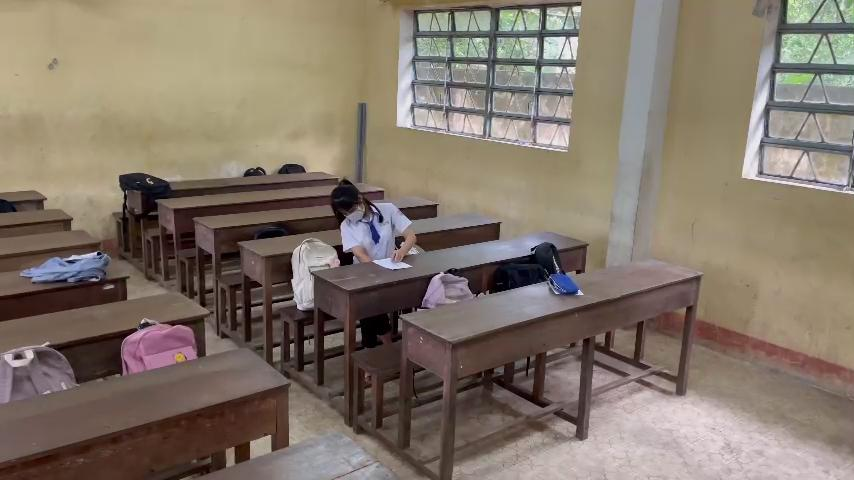Bend Over The Desk: (324, 174, 372, 228)
Hand Under Table: (331, 218, 374, 267)
